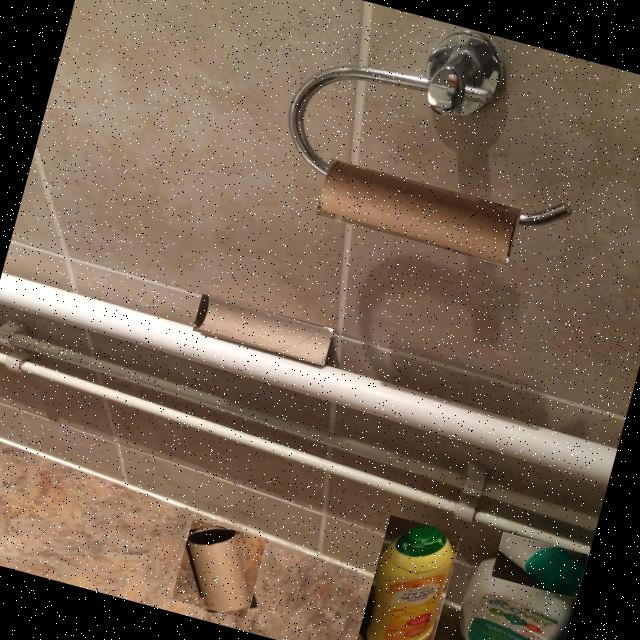Other plastic container: (459, 549, 584, 640), (367, 526, 454, 640)
Plastic bottle cap: (494, 547, 584, 595)
Toilet tube: (321, 162, 517, 265), (195, 296, 329, 363), (188, 527, 251, 612)
